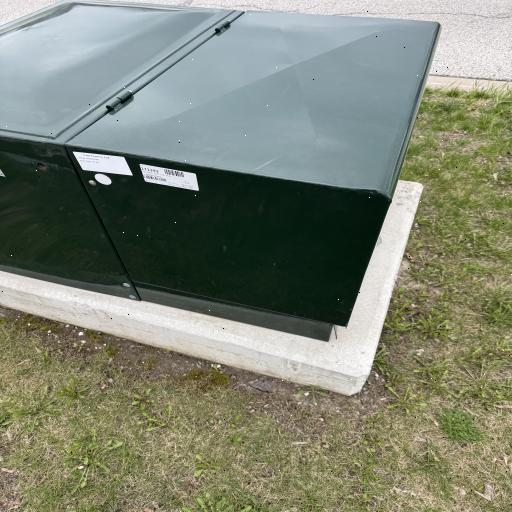Electrical Box: (1, 0, 445, 343)
